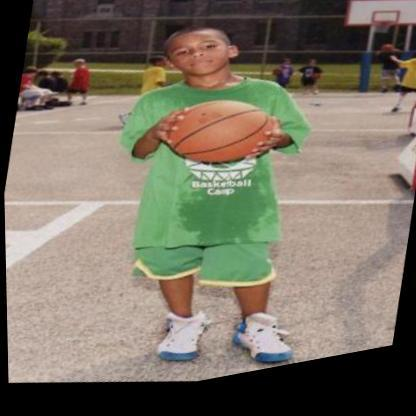basketball: (157, 91, 279, 190)
